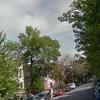Tree: (20, 15, 62, 95)
